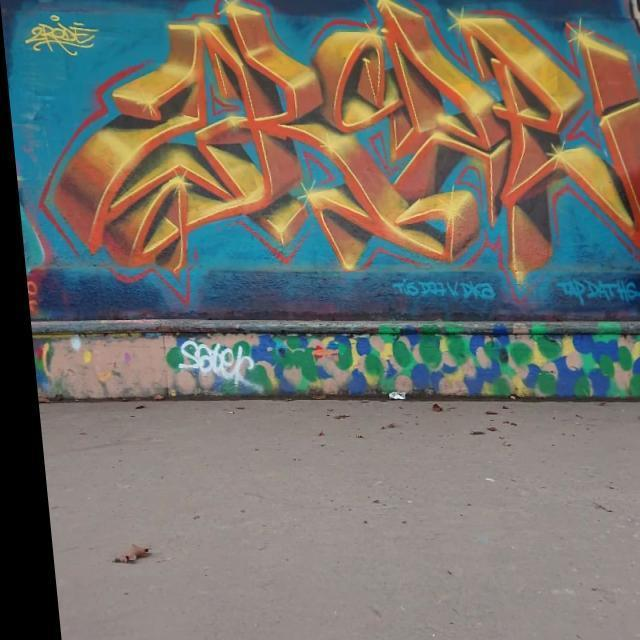-: (21, 1, 640, 296), (164, 334, 256, 394), (382, 266, 494, 308), (22, 8, 102, 59), (548, 274, 640, 316)
